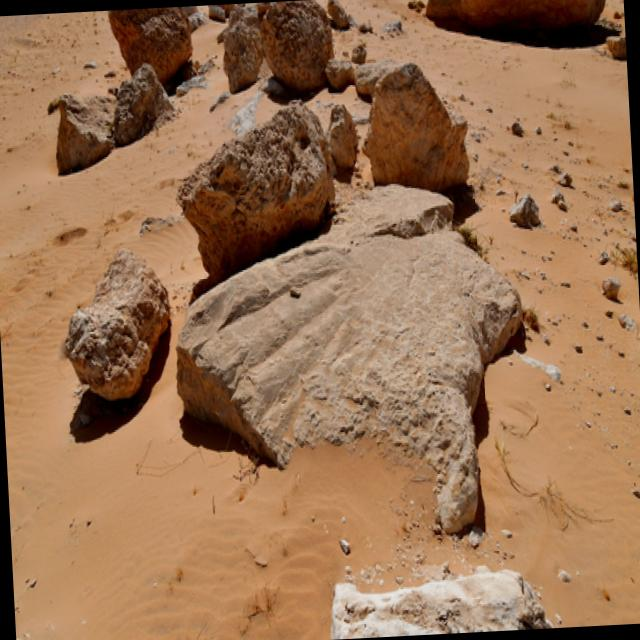red-sand: (5, 339, 430, 640), (438, 31, 640, 628), (0, 11, 132, 424)
stone: (176, 184, 521, 533), (178, 107, 334, 284), (64, 249, 168, 399), (331, 570, 546, 640), (363, 63, 469, 190), (258, 0, 333, 91), (109, 7, 191, 83), (426, 0, 604, 29), (113, 64, 170, 144), (56, 95, 114, 173), (223, 6, 263, 91)
